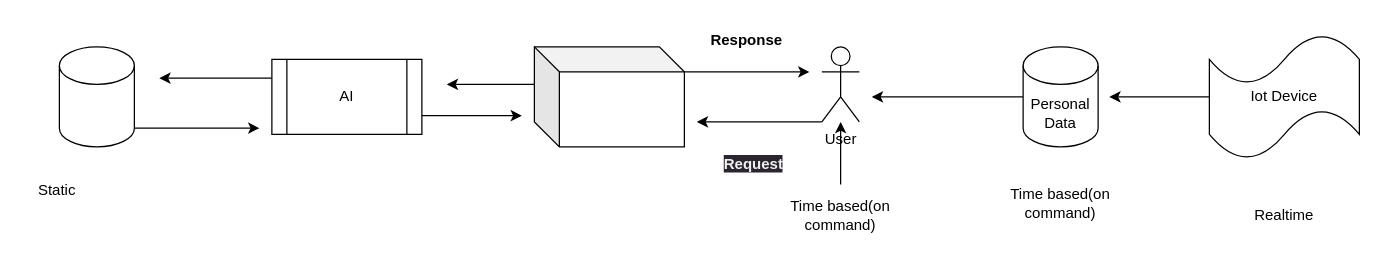
The diagram is 1381 pixels wide and 268 high, and some of its shapes have lost their labels. The shapes that lost their labels are listed below. From the top down, each one's centre as x and y in pixels, then its label:
point (96, 96): Database
point (608, 96): Main
